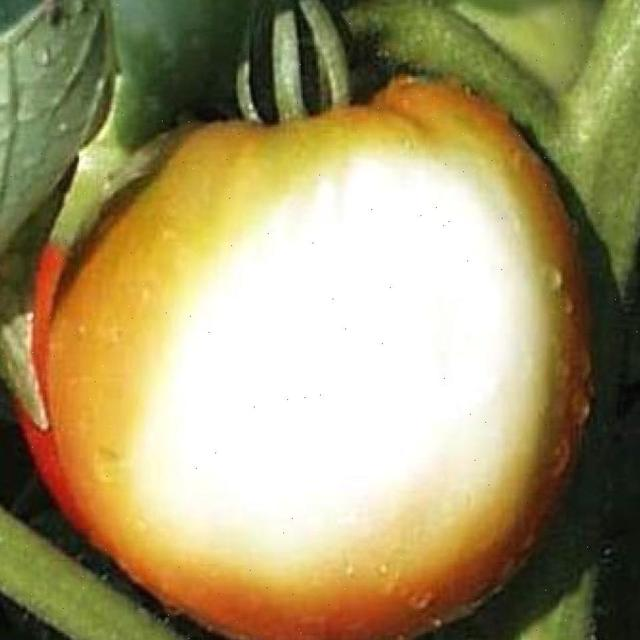Sunscald Fruit: (88, 93, 372, 395)
